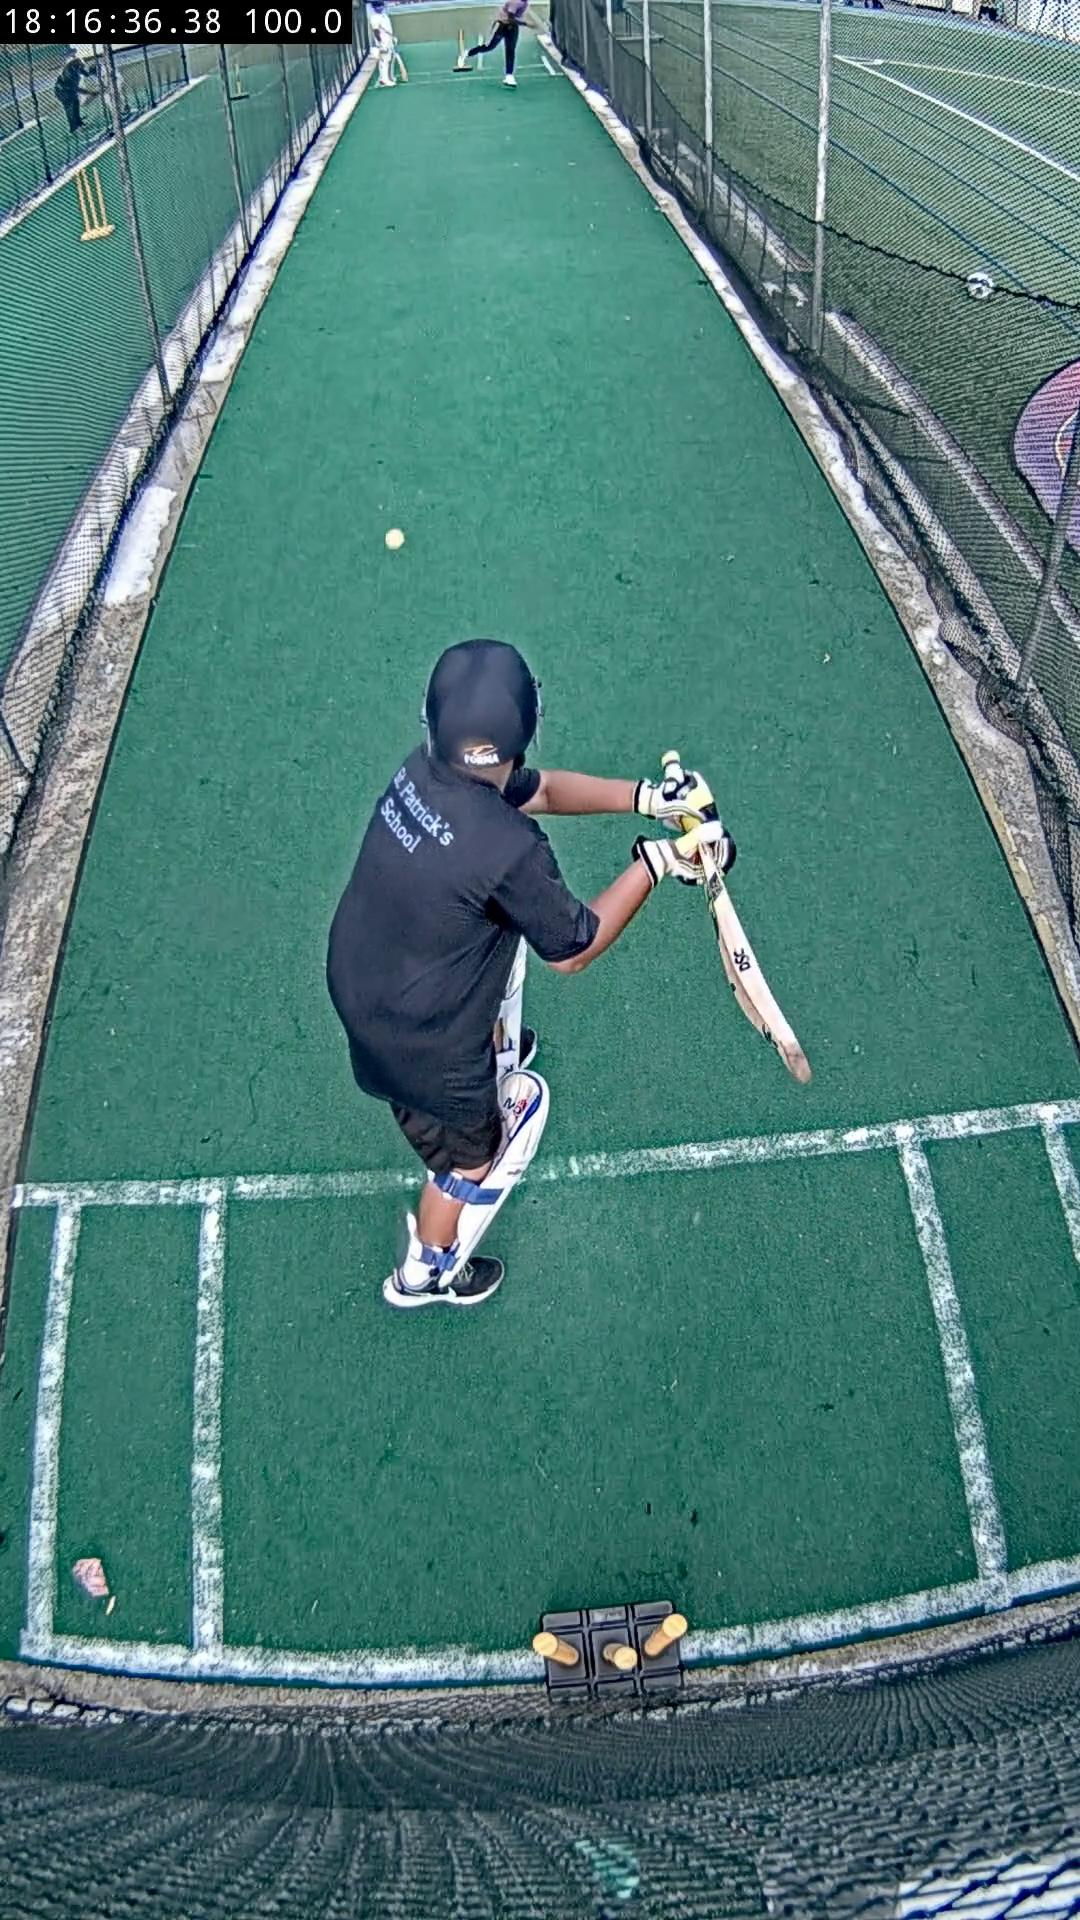ball: (386, 529, 405, 551)
bat: (698, 844, 810, 1081)
gloves: (634, 754, 735, 885)
helmet: (423, 637, 541, 769)
pads: (454, 1068, 551, 1270)
stumps: (533, 1601, 686, 1701)
